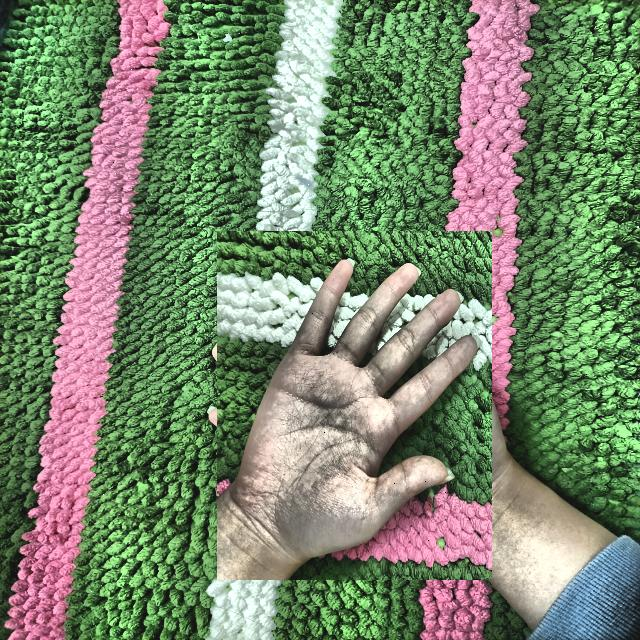not-gloved: (198, 250, 511, 562)
